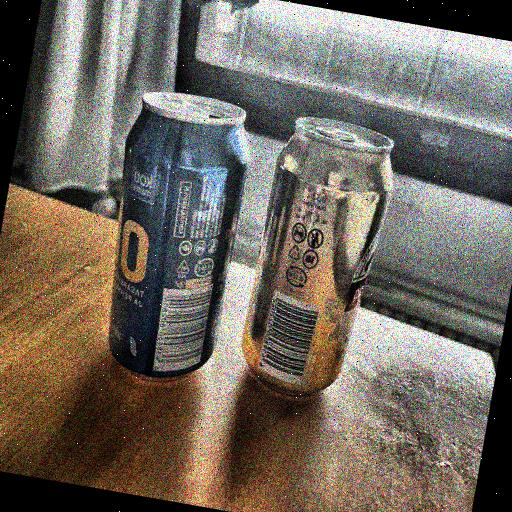A_LeCoq: (224, 90, 422, 412)
koti: (70, 72, 268, 383)
